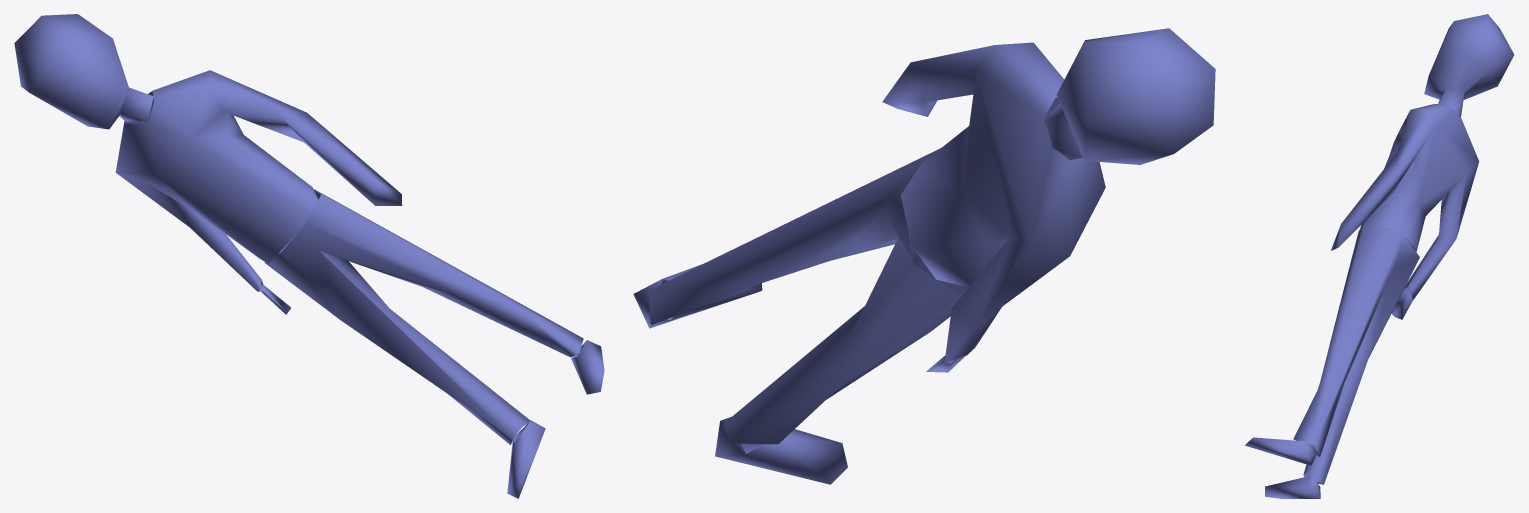
Rendered from lowpoly.fbx.
3 renders of one model, left to right at view 1: azimuth 30°, elevation 25°; view 2: azimuth 150°, elevation 25°; view 3: azimuth 270°, elevation 25°, orthographic. The views are drawn at different scales.
Parts seen in each view (by area): view 1: root.001; view 2: root.001; view 3: root.001.
Boxes of the visible parts, bbox=[...] form: root.001: bbox=[14, 14, 604, 498]; root.001: bbox=[633, 28, 1215, 484]; root.001: bbox=[1244, 14, 1514, 498].
Bounding box in the file's own units: 62.96 × 58.81 × 40.11.
